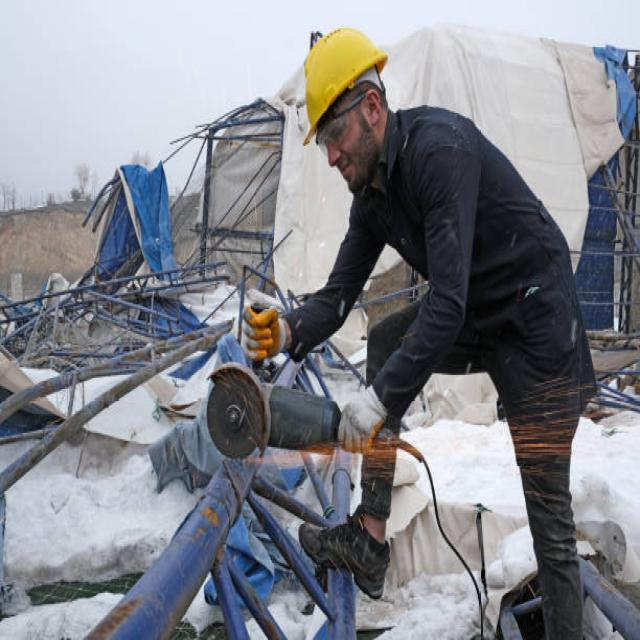Gloves: (334, 378, 388, 459), (234, 288, 290, 364)
helmet: (299, 26, 392, 148)
person: (237, 25, 599, 640)
